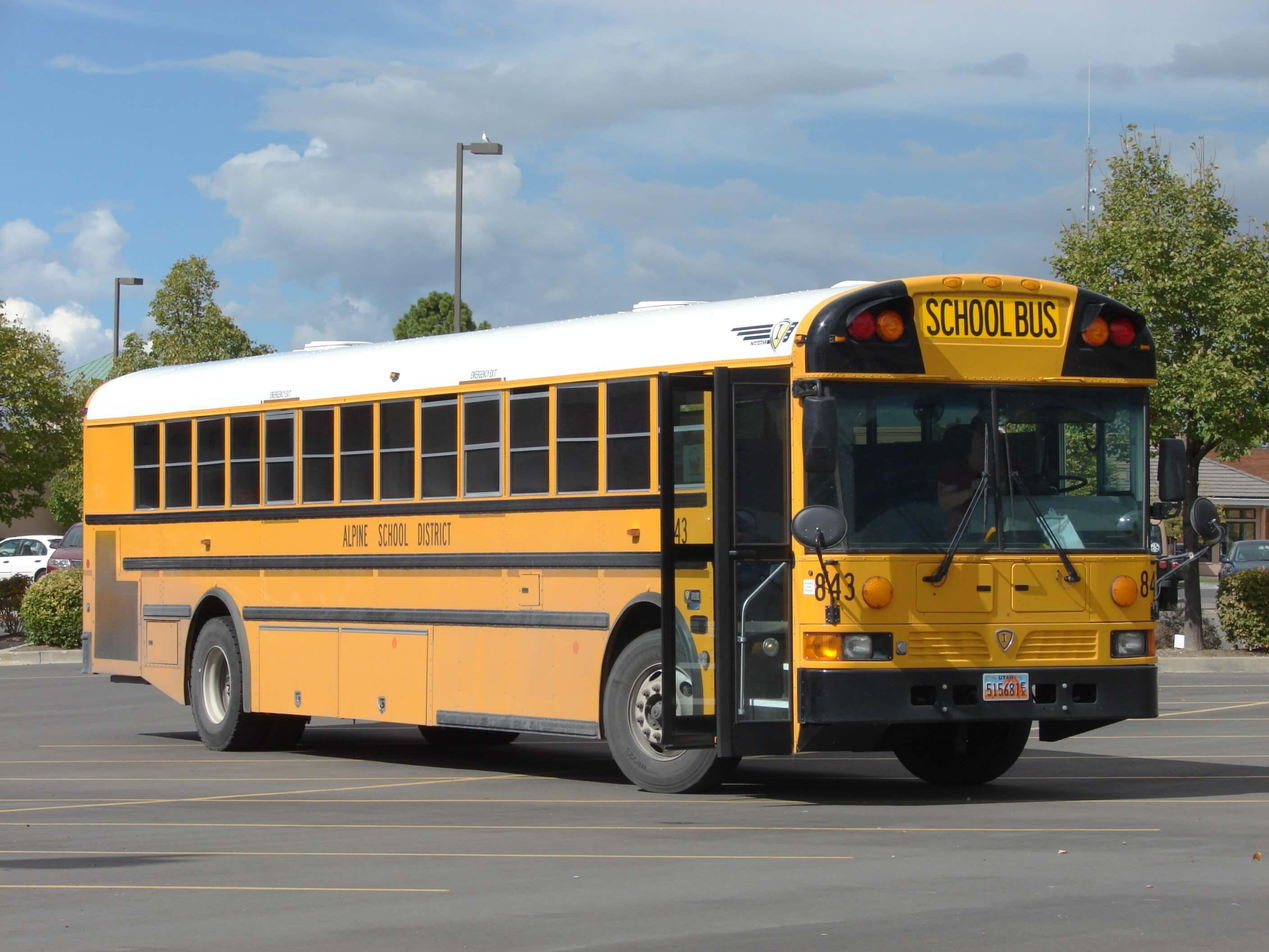Bus: (78, 275, 1162, 797)
